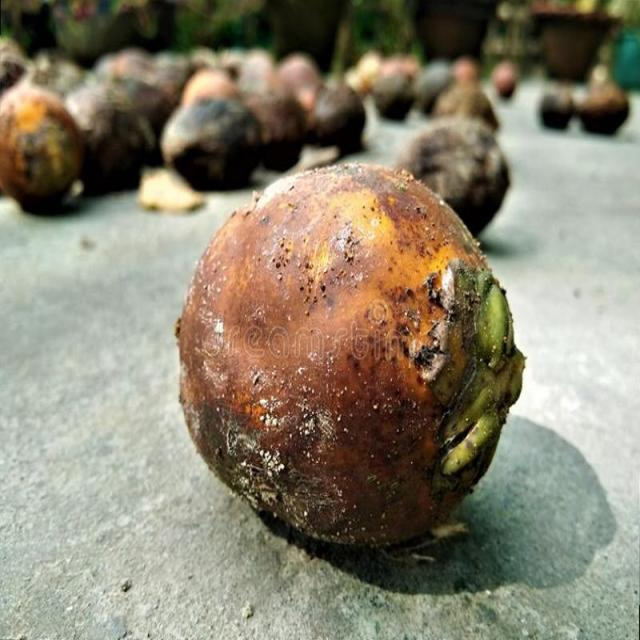damaged: (176, 165, 525, 545)
